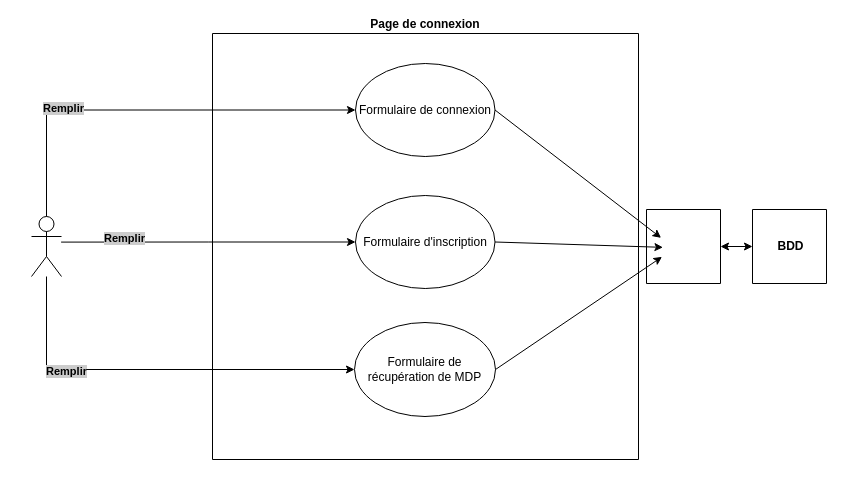
This 844x477 diagram has some shape labels left out. The centre of each missing label's shape, as x and y in pixels:
API: point (683, 246)
Utilisateur: point (46, 246)
